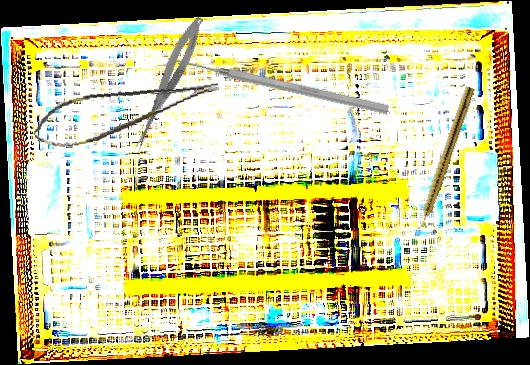Handpiece: (413, 84, 476, 233)
Micro Scissor: (29, 75, 225, 154), (129, 13, 208, 156)
Pusher: (165, 51, 390, 117)
